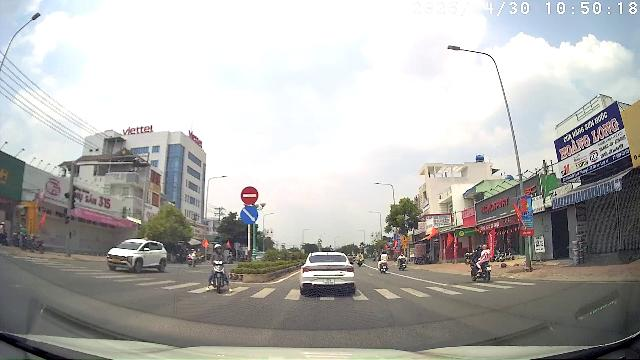102-cam-di-nguoc-chieu: (240, 186, 259, 204)
302a-huong-phai-di-vong-chuong-ngai-vat-1: (240, 206, 258, 224)
